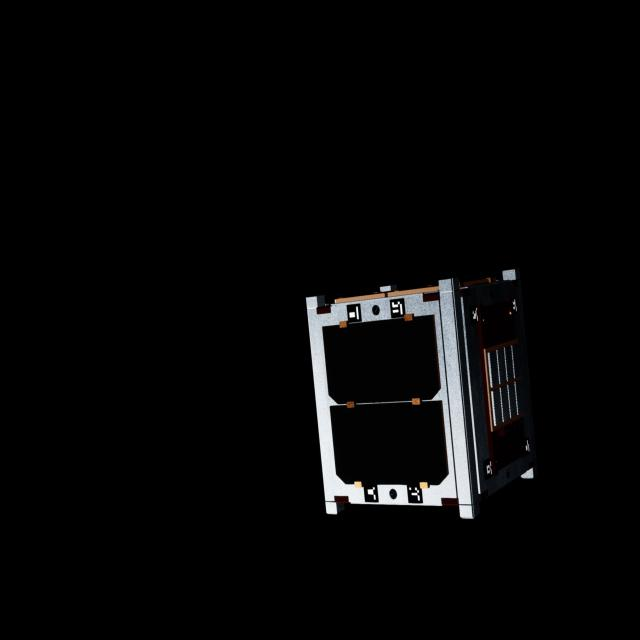satellite: (300, 264, 552, 520)
